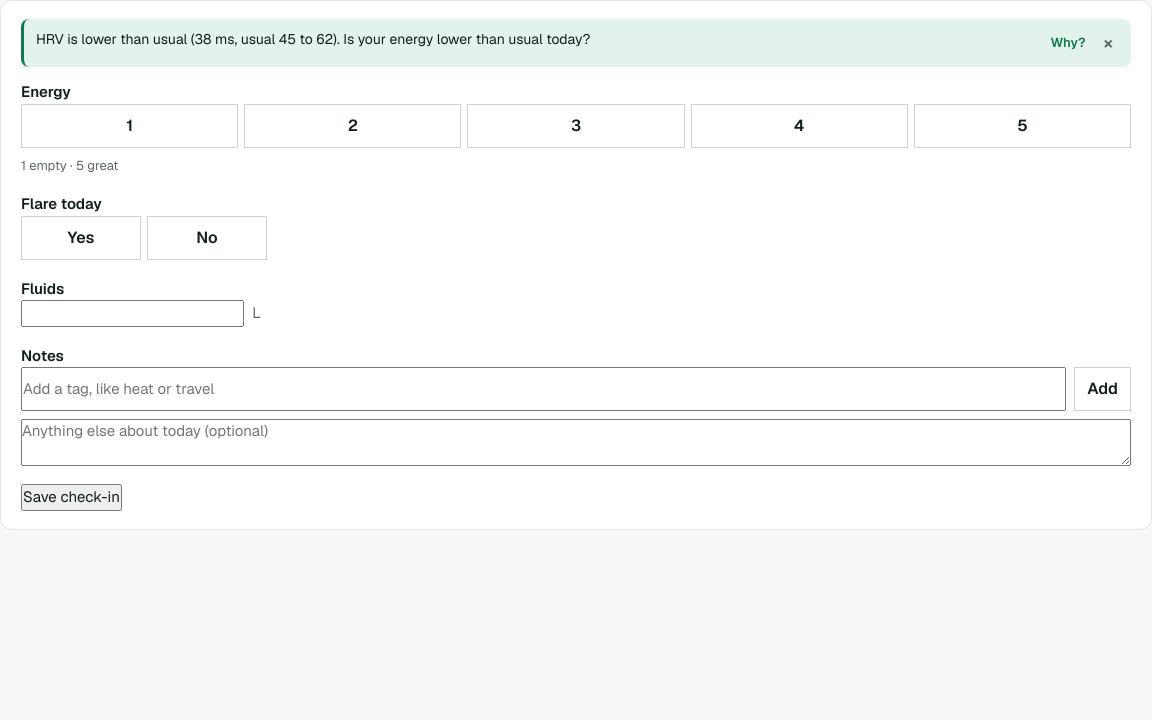
Test: metric questions › goes away when the field is answered, and comes back if the answer is undone
Click the radio button named "2: Low" at (353, 126), box [244, 104, 461, 148]
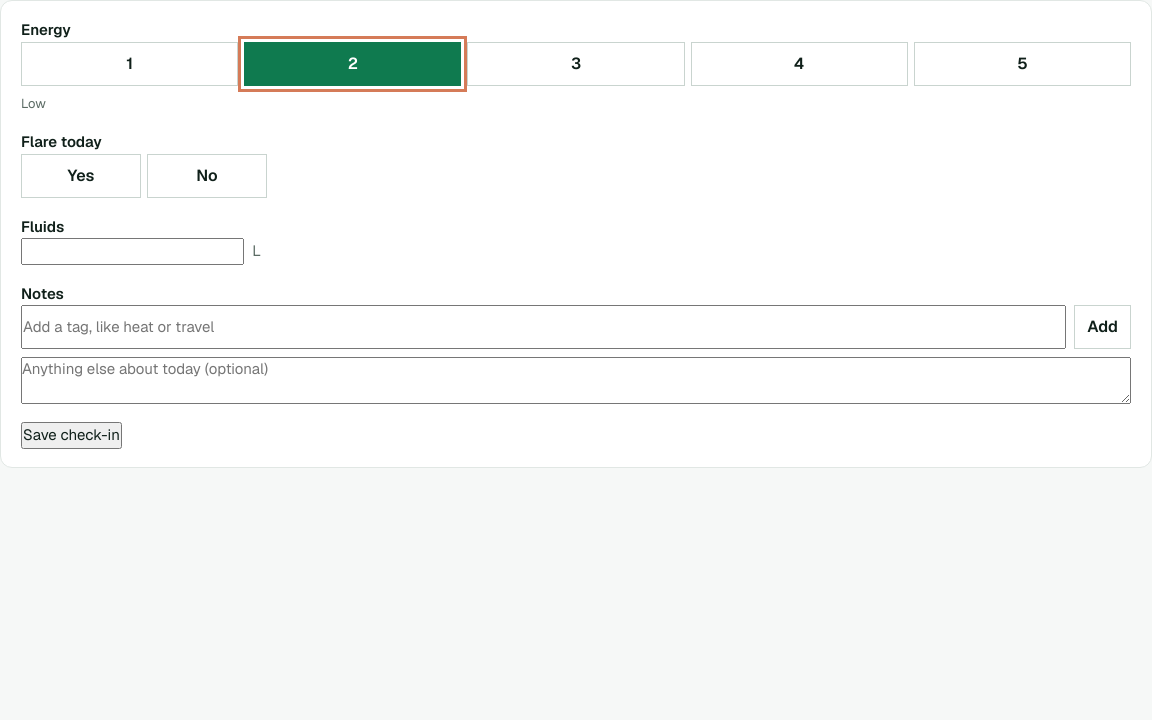
Click the radio button named "2: Low" at (353, 64), box [244, 42, 461, 86]
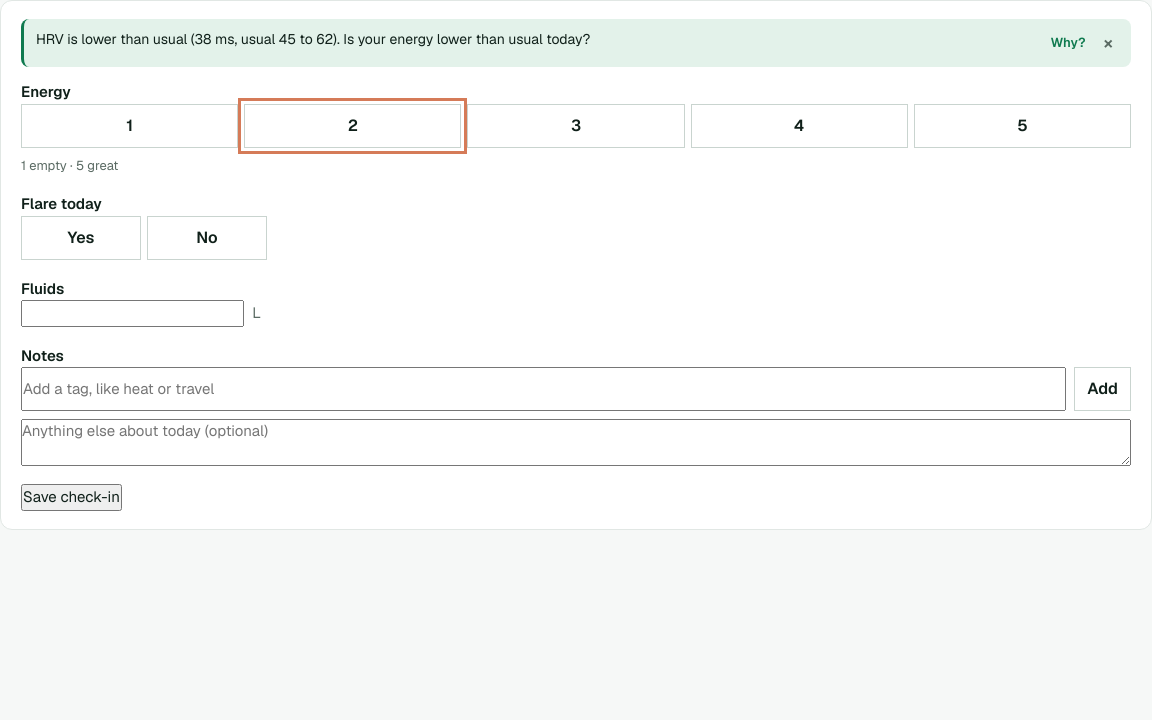
Expected: the element named "Question about HRV" is shown, [21, 19, 1131, 67]
